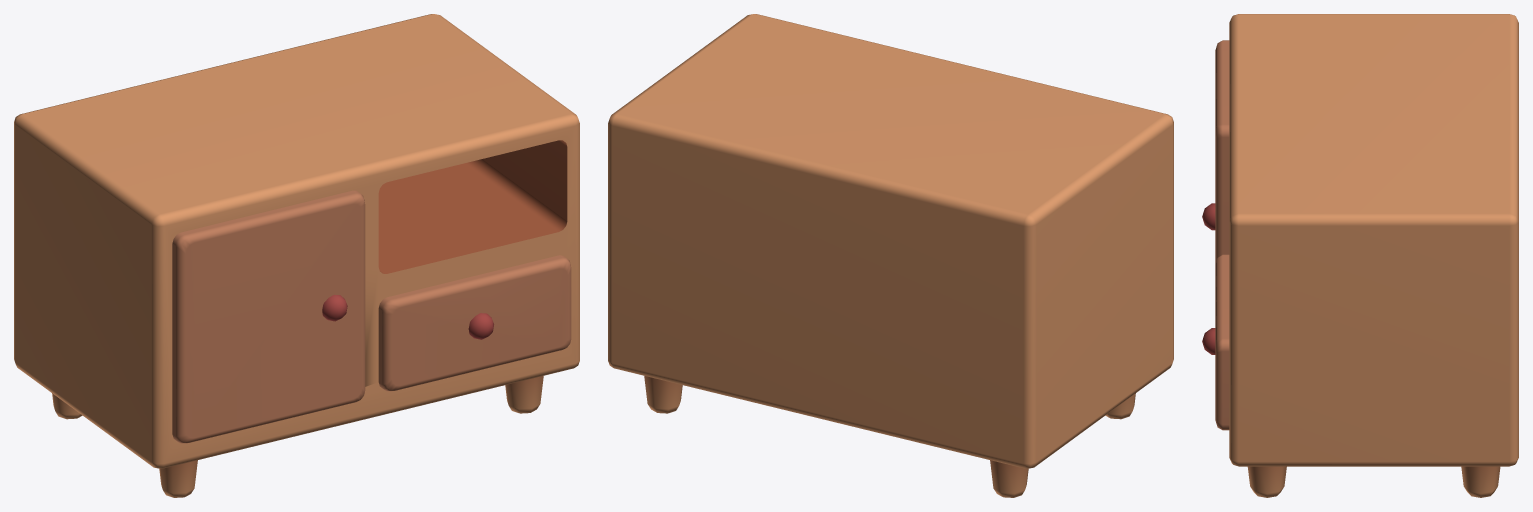
The model's file is shelf.fbx.
The picture shows the model from 3 angles, left to right: view 1: azimuth 30°, elevation 25°; view 2: azimuth 150°, elevation 25°; view 3: azimuth 270°, elevation 25°; orthographic projection.
Visible parts, largest first — view 1: shelf; view 2: shelf; view 3: shelf.
Boxes of the visible parts, bbox=[...] form: shelf: bbox=[14, 14, 579, 497]; shelf: bbox=[608, 14, 1173, 497]; shelf: bbox=[1202, 14, 1518, 497].
Bounding box in the file's own units: 2 × 1.34 × 1.29.
